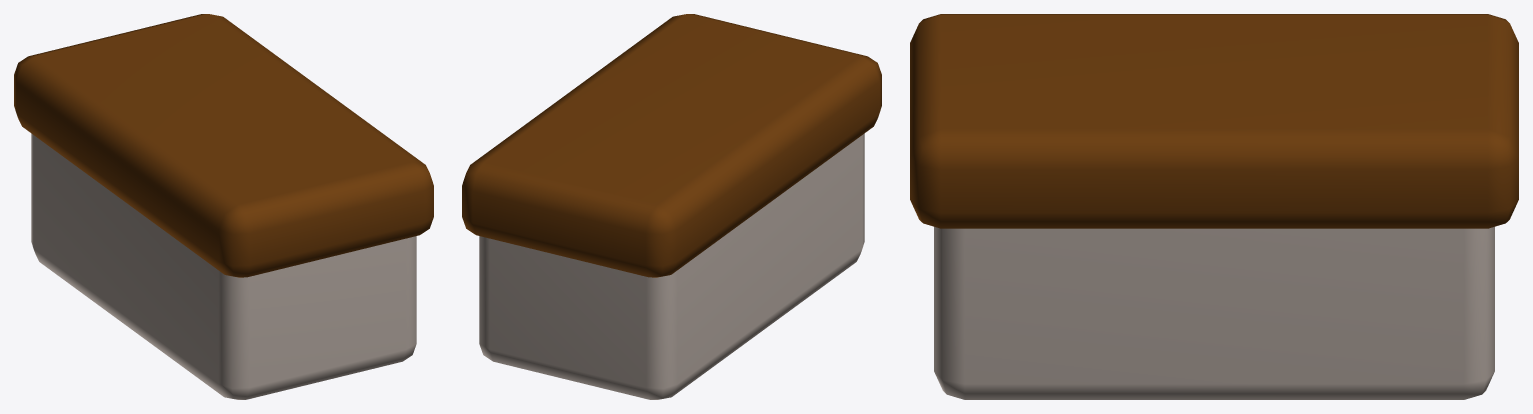
Rendered from stool_02_brown_dark.fbx.
The picture shows the model from 3 angles, left to right: view 1: azimuth 30°, elevation 25°; view 2: azimuth 150°, elevation 25°; view 3: azimuth 270°, elevation 25°; orthographic projection. The views are drawn at different scales.
Visible parts, largest first — view 1: stool_02_brown_dark; view 2: stool_02_brown_dark; view 3: stool_02_brown_dark.
Boxes of the visible parts, x1,y1,x2,y2 form: stool_02_brown_dark: (14, 14, 433, 399); stool_02_brown_dark: (462, 14, 881, 399); stool_02_brown_dark: (910, 14, 1518, 399).
Bounding box in the file's own units: 42.91 × 39.33 × 78.81.
1 material, 1 textured.
